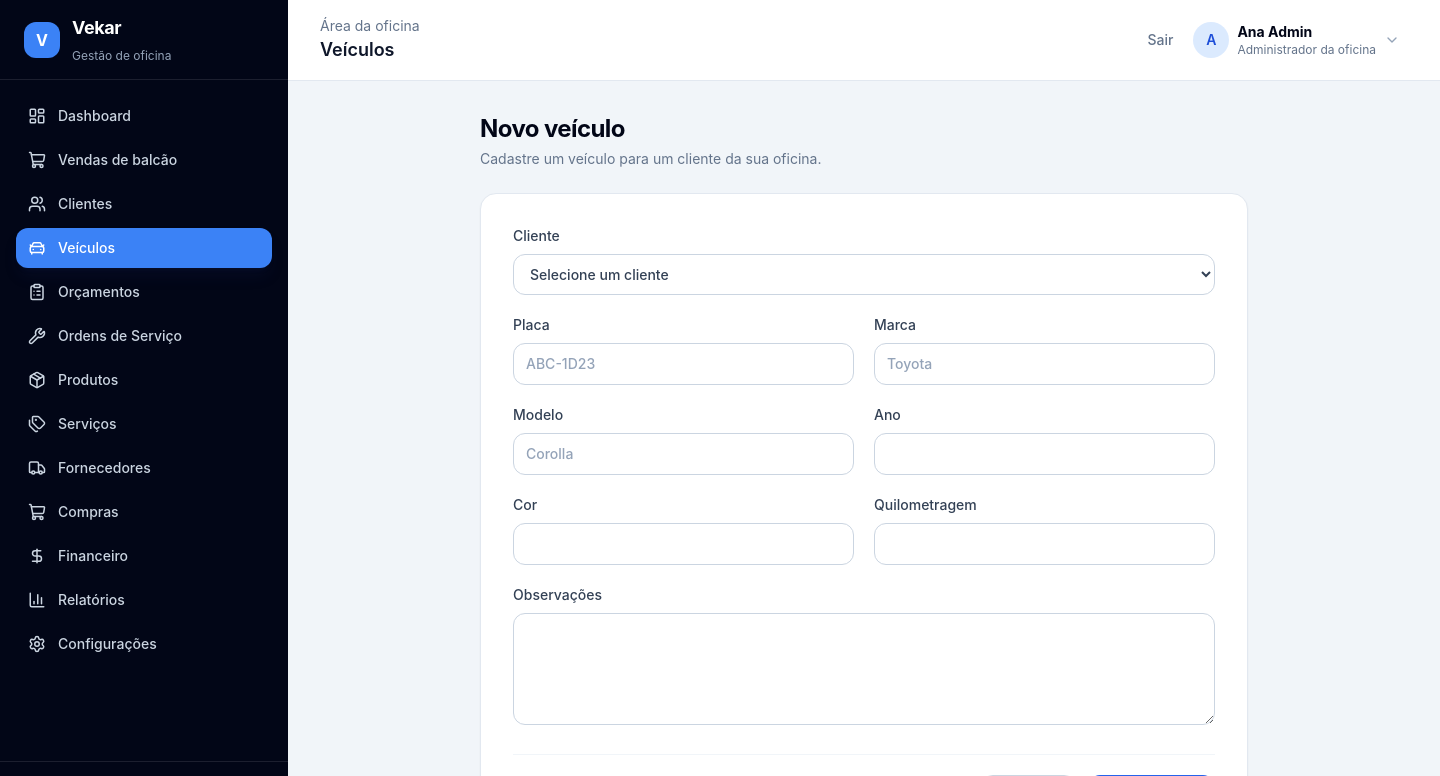
Test: Vehicle management through the routed application › creates a vehicle with normalized-compatible form fields and navigates to details
Expected: the heading "Novo veículo" is shown, left=480, top=114, right=625, bottom=143
Select "Maria Silva" in the dropdown labelled "Cliente" at (864, 274), box left=513, top=254, right=1215, bottom=295
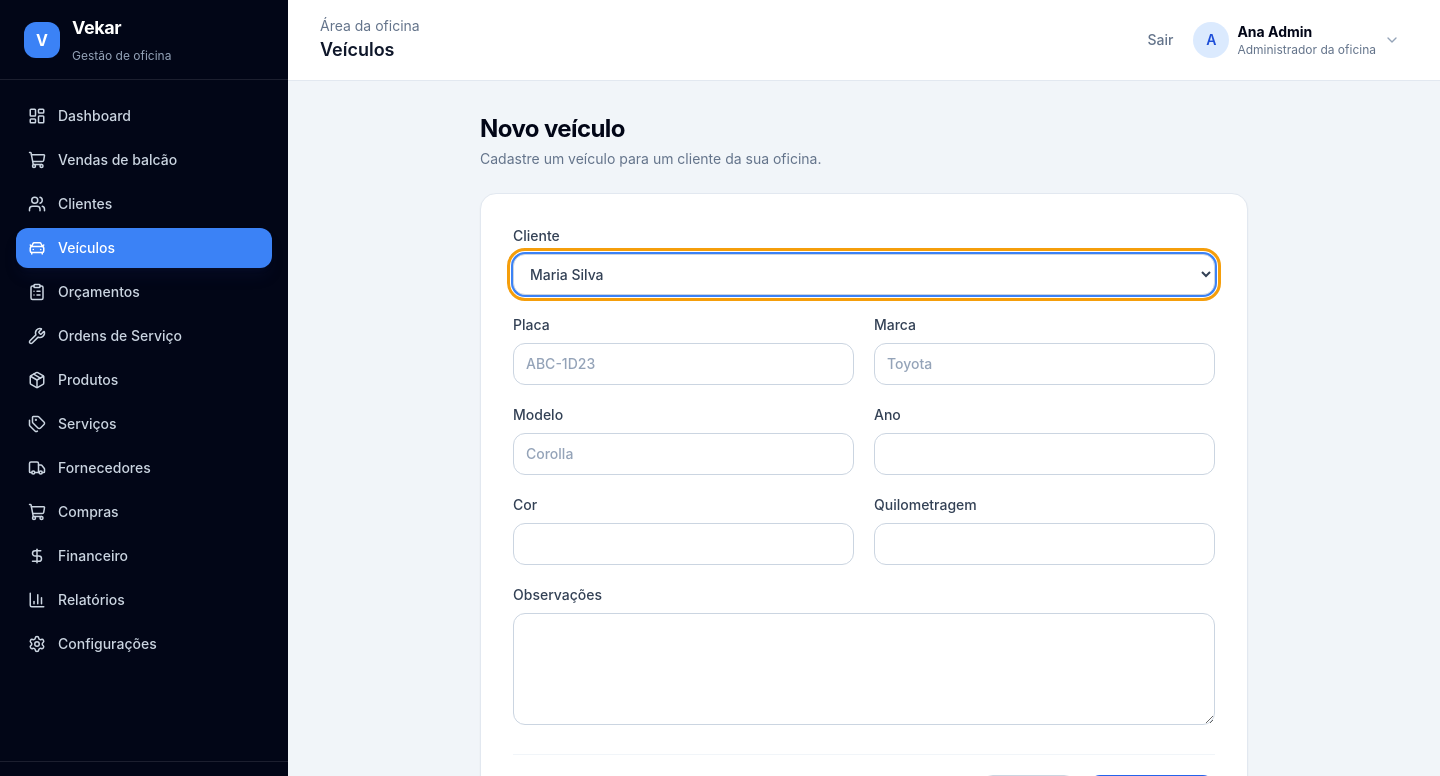
Type "abc-1d23" into the field labelled "Placa".
click(684, 364); type("abc-1d23")  # box left=513, top=343, right=854, bottom=385
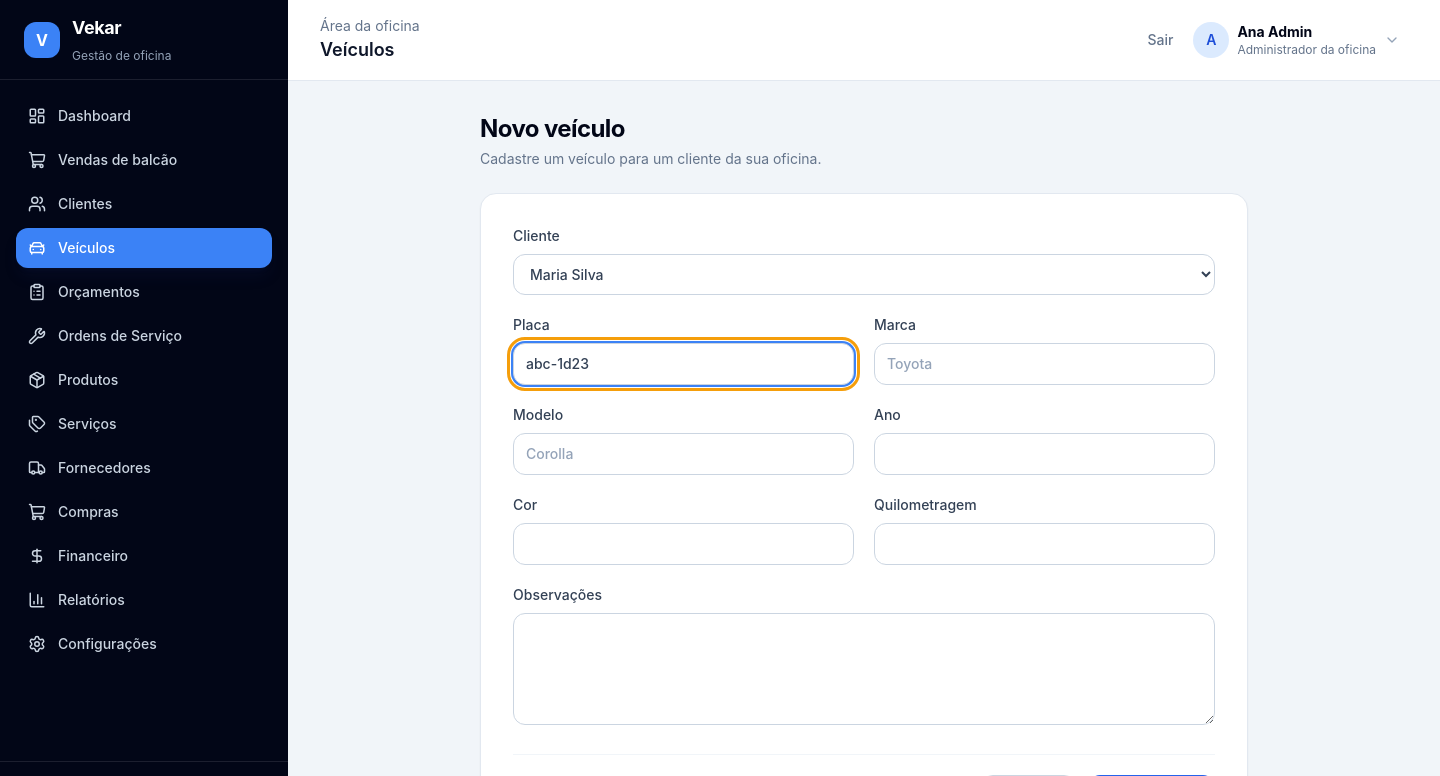
Type " Toyota " into the field labelled "Marca".
click(1044, 364); type(" Toyota ")  # box left=874, top=343, right=1215, bottom=385
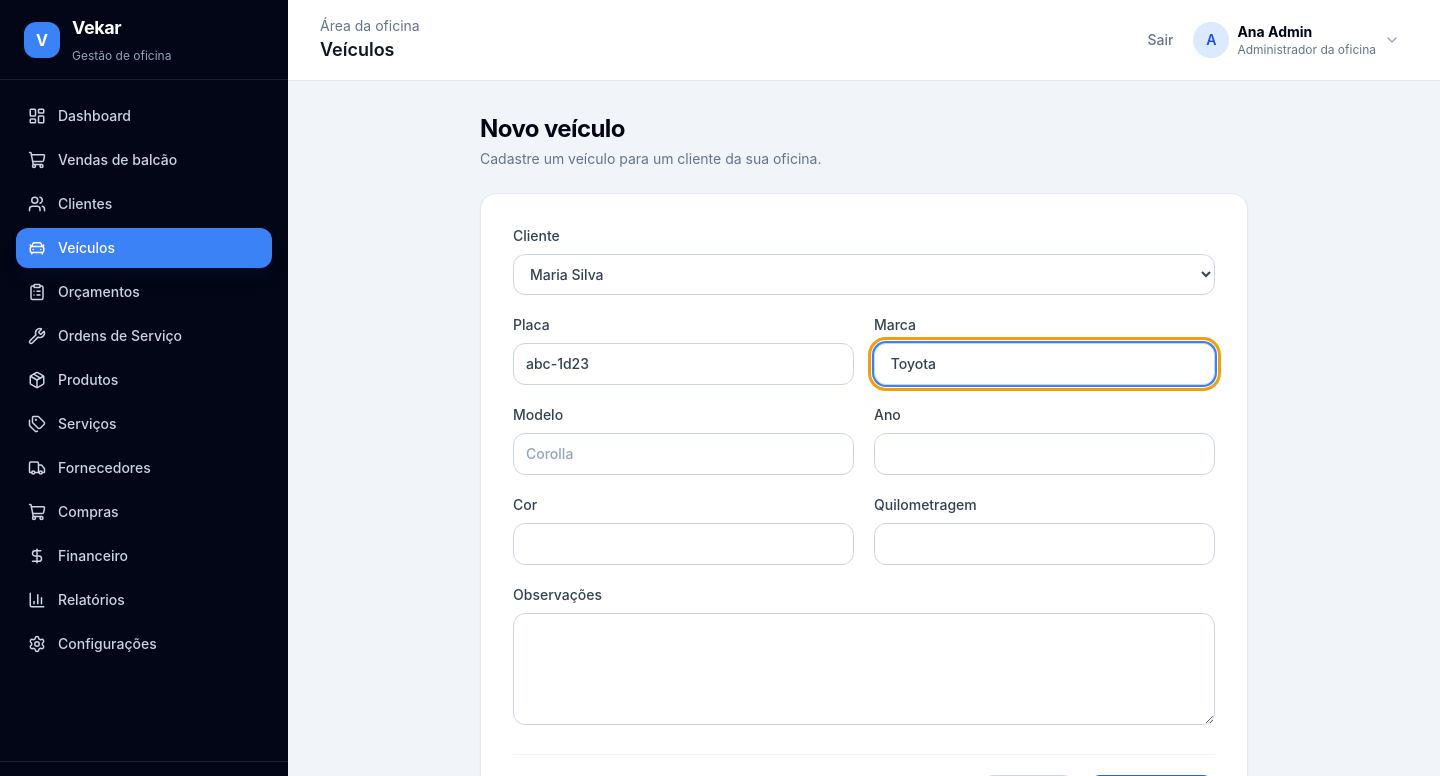
Type " Corolla " into the field labelled "Modelo".
click(684, 454); type(" Corolla ")  # box left=513, top=433, right=854, bottom=475
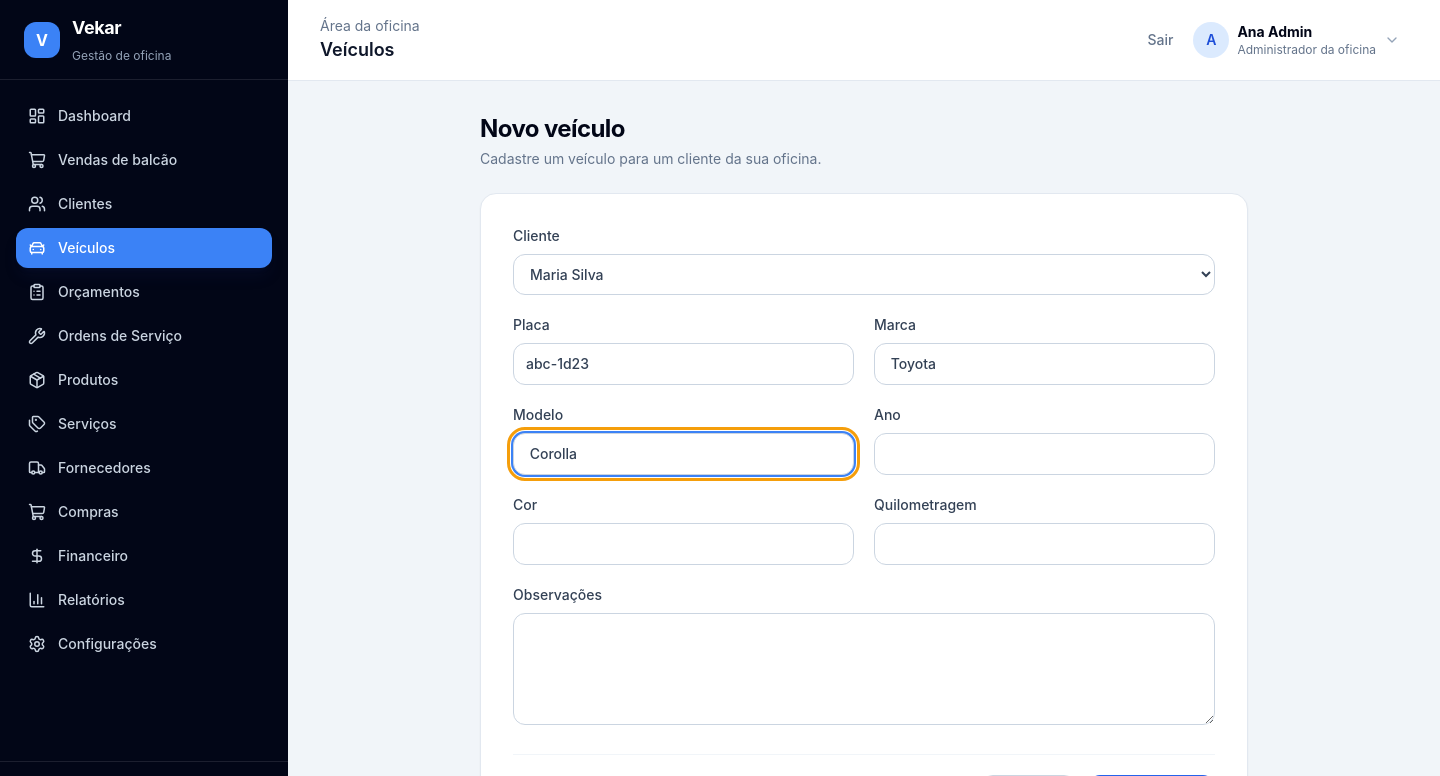
Type "2022" into the number field labelled "Ano".
click(1044, 454); type("2022")  # box left=874, top=433, right=1215, bottom=475
(page scrolled)
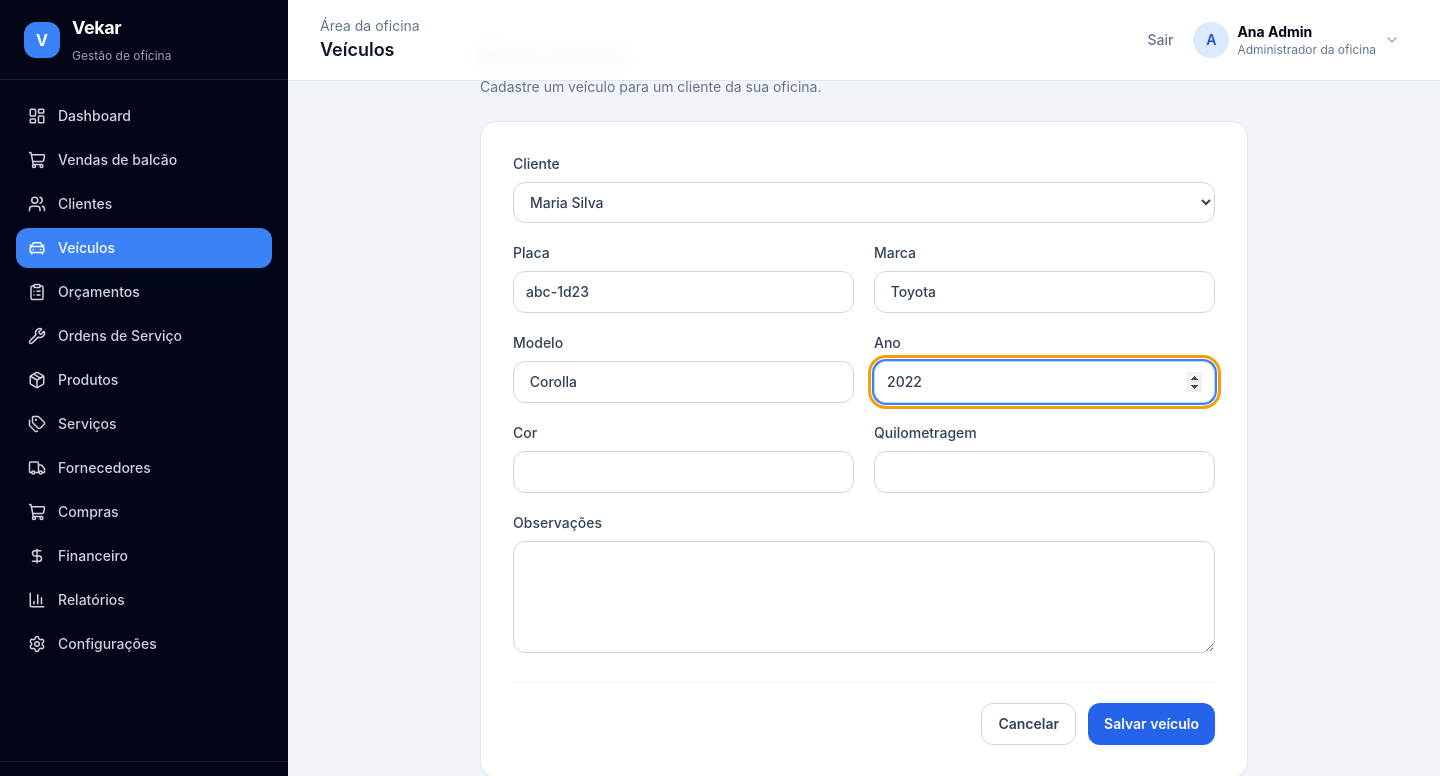
Click the button "Salvar veículo".
click(1152, 724)  # box left=1088, top=703, right=1215, bottom=745
(page scrolled)
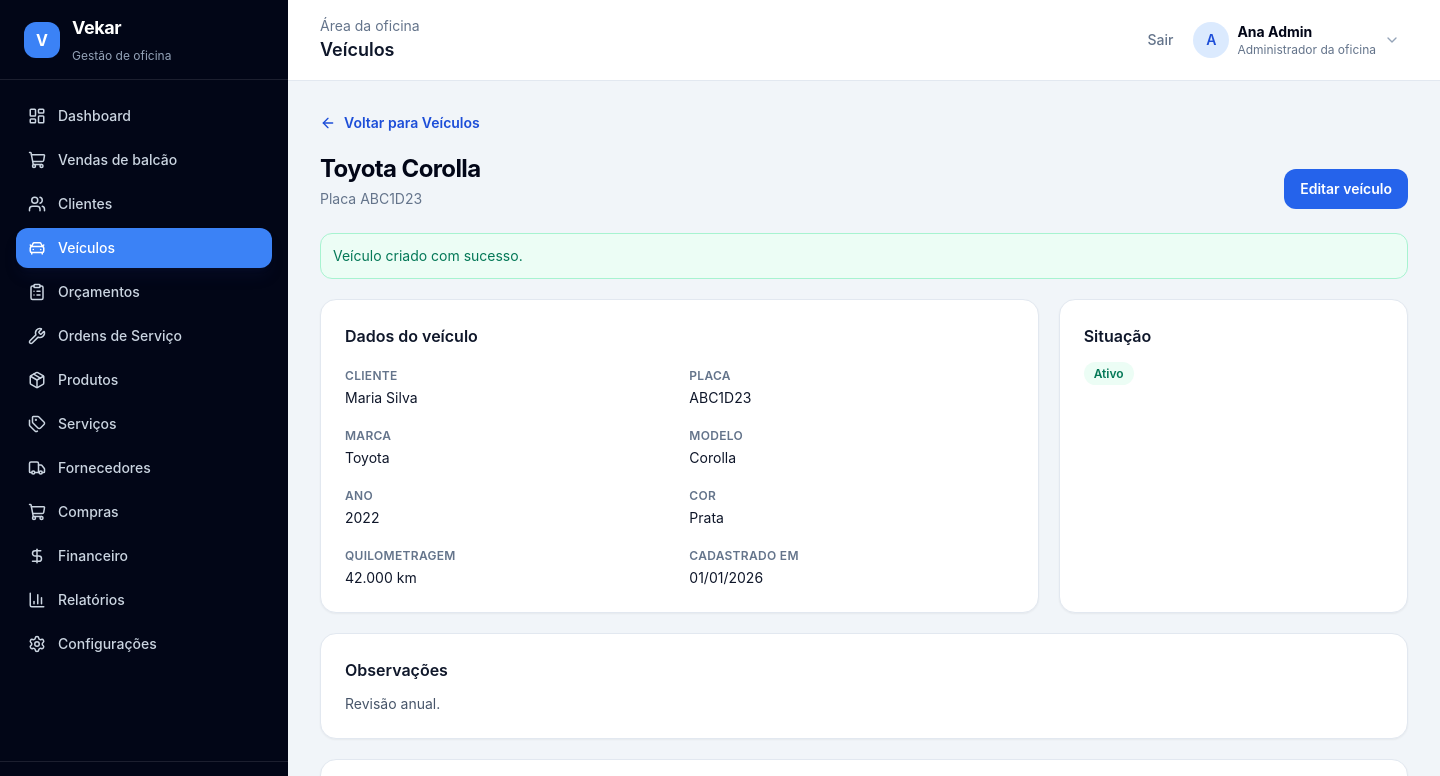
Expected: the heading "Toyota Corolla" is shown, left=320, top=153, right=481, bottom=185
